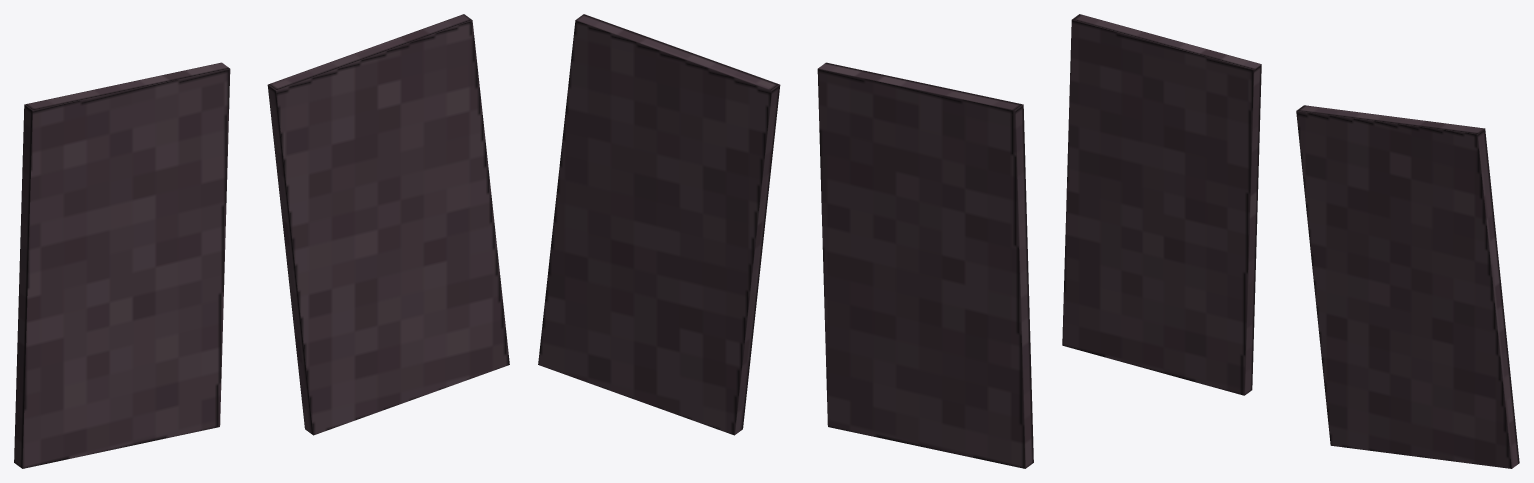
The model's file is deadzone_chembrane_ruin_chembrane.obj.
The picture shows the model from 3 angles, left to right: view 1: azimuth 30°, elevation 25°; view 2: azimuth 150°, elevation 25°; view 3: azimuth 330°, elevation 25°; orthographic projection. The views are drawn at different scales.
Size of the model in its own units: 5.3 by 4.09 by 0.16.
Materials: 1 (1 with a texture image).
